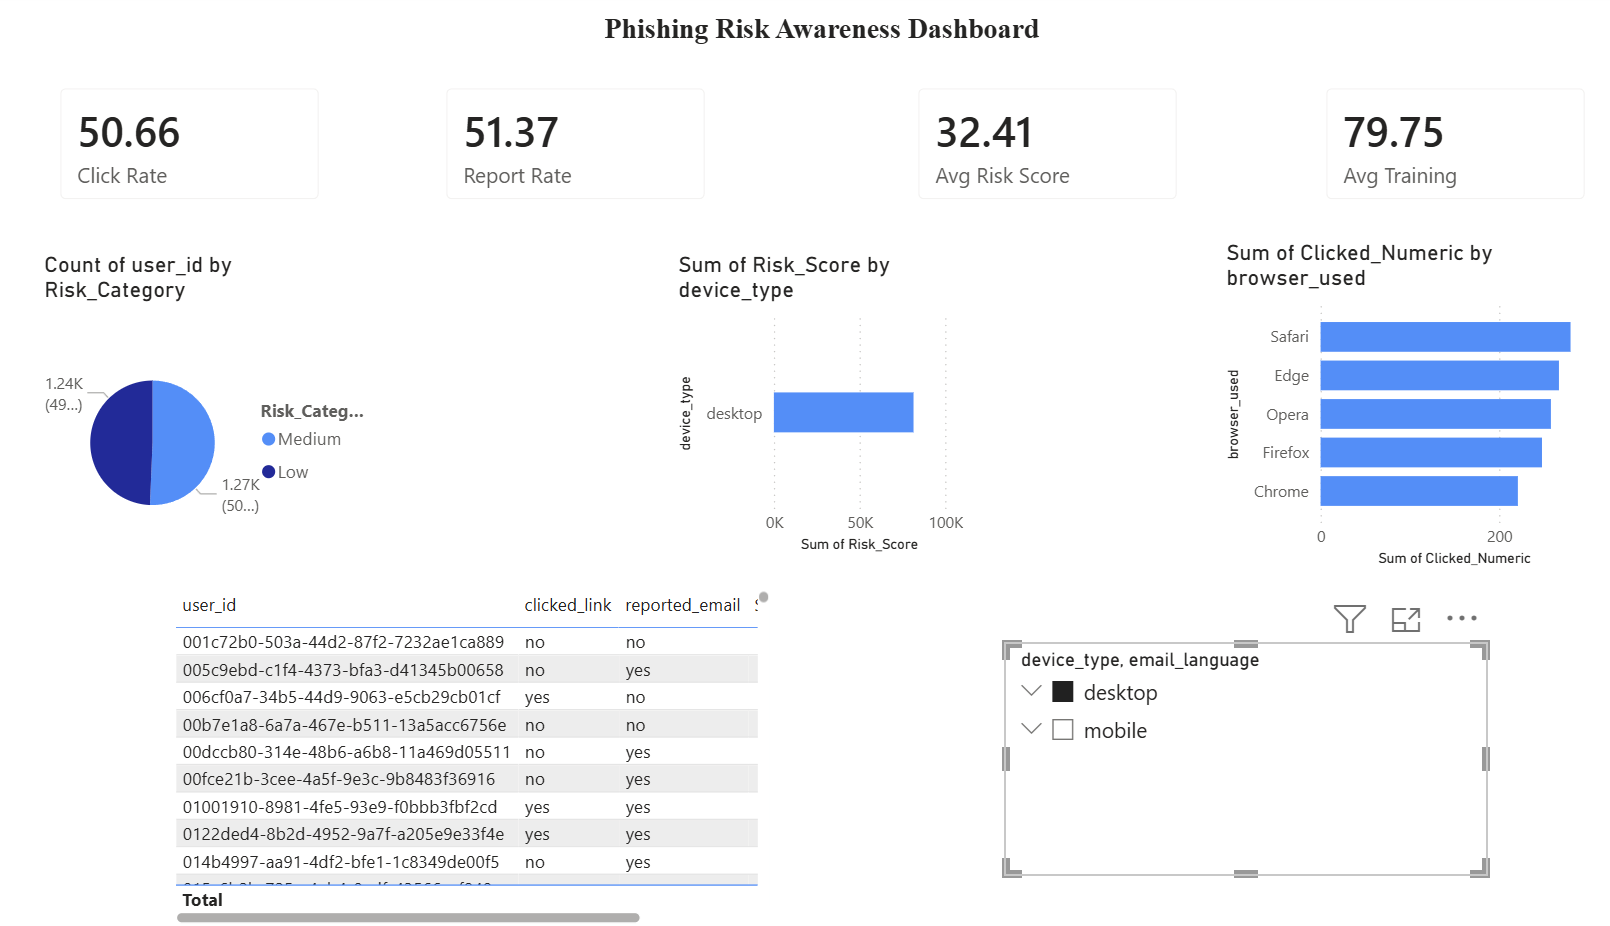

What the dashboard file says about the page in this screenshot:
{"tool":"powerbi","page":{"name":"Page 1","canvas":[1280,720],"ordinal":0},"visuals":[{"type":"pieChart","fields":{"Category":["phishing_awareness_dataset.Risk_Category"],"Y":["CountNonNull(phishing_awareness_dataset.user_id)"]},"box":[39.8,200.6,263.3,254.2],"z":0},{"type":"barChart","fields":{"Category":["phishing_awareness_dataset.device_type"],"Y":["Sum(phishing_awareness_dataset.Risk_Score)"]},"box":[525.2,200.6,228.1,234.3],"z":1000},{"type":"barChart","fields":{"Category":["phishing_awareness_dataset.browser_used"],"Y":["Sum(phishing_awareness_dataset.Clicked_Numeric)"]},"box":[944.7,191.4,297,254.2],"z":2000},{"type":"tableEx","fields":{"Values":["phishing_awareness_dataset.user_id","phishing_awareness_dataset.clicked_link","phishing_awareness_dataset.reported_email","Sum(phishing_awareness_dataset.Risk_Score)"]},"box":[139.3,454.7,465.5,264.9],"z":3000},{"type":"slicer","fields":{"Values":["phishing_awareness_dataset.device_type","phishing_awareness_dataset.email_language"]},"box":[779.3,499.1,370.5,179.1],"z":4000},{"type":"cardVisual","fields":{"Data":["phishing_awareness_dataset.Click Rate"]},"box":[39.8,58.2,232.7,119.4],"z":5000},{"type":"cardVisual","fields":{"Data":["phishing_awareness_dataset.Report Rate"]},"box":[335.3,58.2,232.7,119.4],"z":6000},{"type":"cardVisual","fields":{"Data":["phishing_awareness_dataset.Avg Risk Score"]},"box":[696.7,58.2,232.7,119.4],"z":7000},{"type":"cardVisual","fields":{"Data":["phishing_awareness_dataset.Avg Training"]},"box":[1009,58.2,232.7,119.4],"z":8000},{"type":"textbox","box":[468.5,12.2,343,45.9],"z":9000}]}

Visuals, with their boxes in screenshot pixels (x1, y1, x2, y2), scaled from the page's 1280x720 canvas onto the 1610x926 screenshot:
pieChart - phishing_awareness_dataset.Risk_Category x CountNonNull(phishing_awareness_dataset.user_id): 50:258:381:585
barChart - phishing_awareness_dataset.device_type x Sum(phishing_awareness_dataset.Risk_Score): 661:258:948:559
barChart - phishing_awareness_dataset.browser_used x Sum(phishing_awareness_dataset.Clicked_Numeric): 1188:246:1562:573
tableEx - phishing_awareness_dataset.user_id x phishing_awareness_dataset.clicked_link: 175:585:761:925
slicer - phishing_awareness_dataset.device_type x phishing_awareness_dataset.email_language: 980:642:1446:872
cardVisual - phishing_awareness_dataset.Click Rate: 50:75:343:228
cardVisual - phishing_awareness_dataset.Report Rate: 422:75:714:228
cardVisual - phishing_awareness_dataset.Avg Risk Score: 876:75:1169:228
cardVisual - phishing_awareness_dataset.Avg Training: 1269:75:1562:228
textbox: 589:16:1021:75
